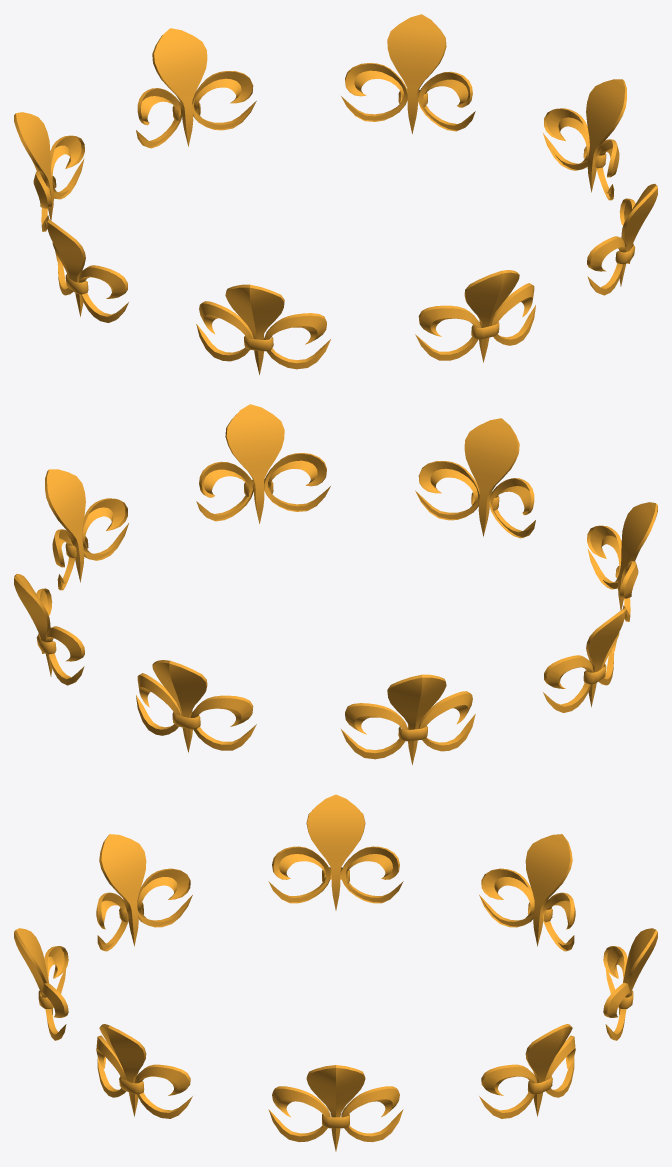
File: Cake_Lrg_itemsSide_RoyalSymbol-A.FBX
The picture shows the model from 3 angles, top to bottom: view 1: azimuth 30°, elevation 25°; view 2: azimuth 150°, elevation 25°; view 3: azimuth 270°, elevation 25°; orthographic projection. The views are drawn at different scales.
Visible parts, largest first — view 1: Cake_Lrg_itemsSide_RoyalSymbol-A; view 2: Cake_Lrg_itemsSide_RoyalSymbol-A; view 3: Cake_Lrg_itemsSide_RoyalSymbol-A.
Part boxes in pixels (bbox=[...]): Cake_Lrg_itemsSide_RoyalSymbol-A: bbox=[14, 14, 657, 374]; Cake_Lrg_itemsSide_RoyalSymbol-A: bbox=[14, 404, 657, 764]; Cake_Lrg_itemsSide_RoyalSymbol-A: bbox=[14, 794, 657, 1151].
Bounding box in the file's own units: 11147 × 1956 × 11147.
